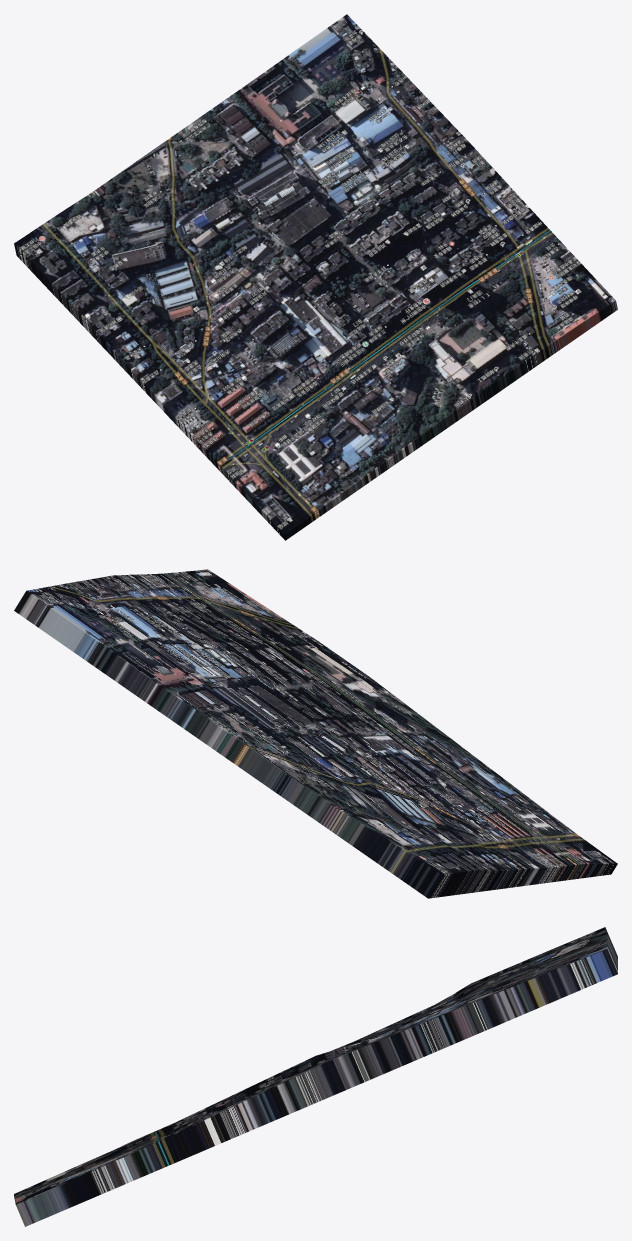
3 renders of one model, top to bottom at view 1: azimuth 30°, elevation 25°; view 2: azimuth 150°, elevation 25°; view 3: azimuth 270°, elevation 25°, orthographic. The views are drawn at different scales.
Parts seen in each view (by area): view 1: 0_15_22; view 2: 0_15_22; view 3: 0_15_22.
Part boxes in pixels (bbox=[...]): 0_15_22: bbox=[14, 14, 617, 540]; 0_15_22: bbox=[14, 569, 617, 898]; 0_15_22: bbox=[14, 927, 617, 1226].
Bounding box in the file's own units: 603 × 449 × 552.
1 material, 1 textured.
